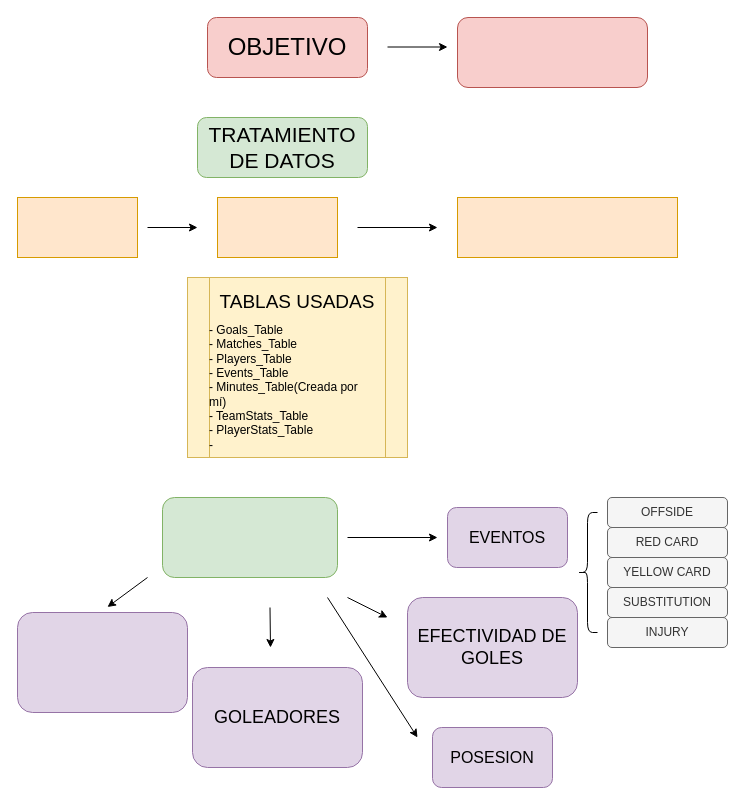
The diagram is 745 pixels wide and 805 high, and some of its shapes have lost their labels. The box of each missing label's shape, as (x1, y1, x2, y2) in pixels:
CANTIDAD VICTORIAS, EMPATES, DERROTAS: (16, 612, 188, 712)
CONSEGUIR VICTORIA: (456, 16, 648, 88)
Fichero CSV: (16, 196, 138, 258)
INFORMACION RELEVANTE SOBRE EQUIPOS: (162, 496, 338, 578)
Modelo de datos: (216, 196, 338, 258)
POWERBI(archivo .pBix): (456, 196, 678, 258)
